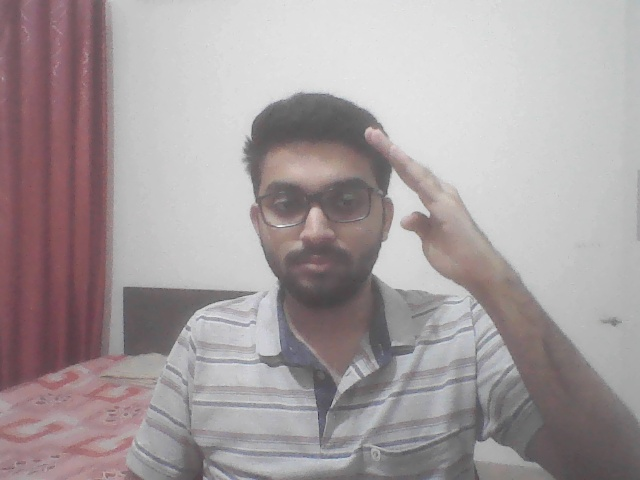hello: (360, 123, 566, 369)
